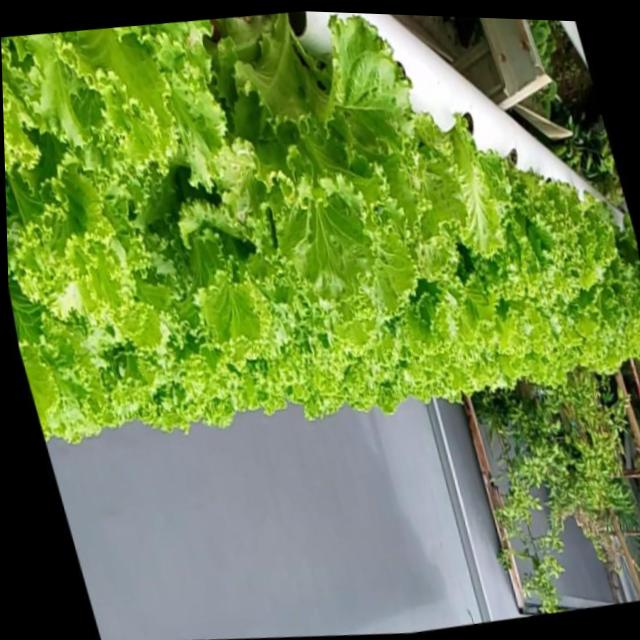Mature: (1, 11, 640, 457), (229, 11, 437, 307), (470, 141, 639, 348)
